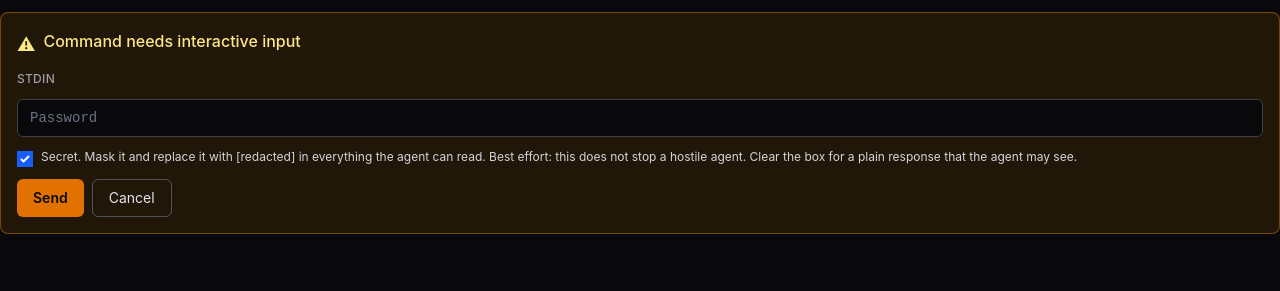
Test: InputPrompt › shows a plain textarea when Secret is cleared
What coordinates should you click on to do the following:
click the checkbox labelled "Secret"
I would click on:
 (25, 159)
Its box is x1=17 y1=151 x2=33 y2=167.
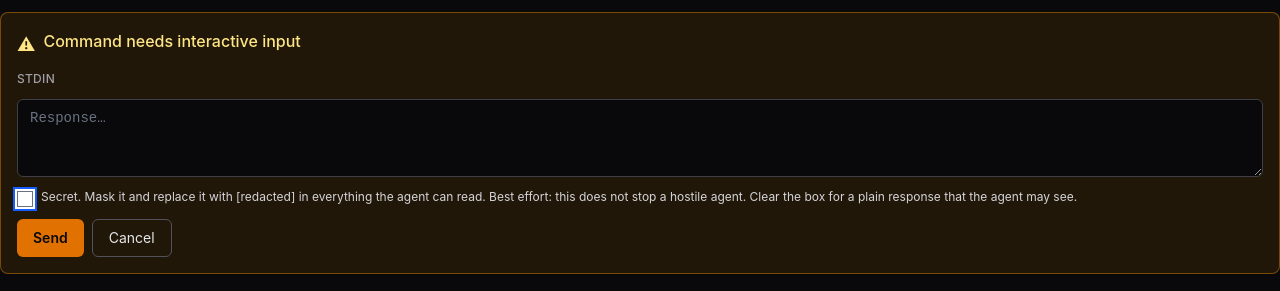
Result: the text box is shown at x1=17 y1=99 x2=1263 y2=177
